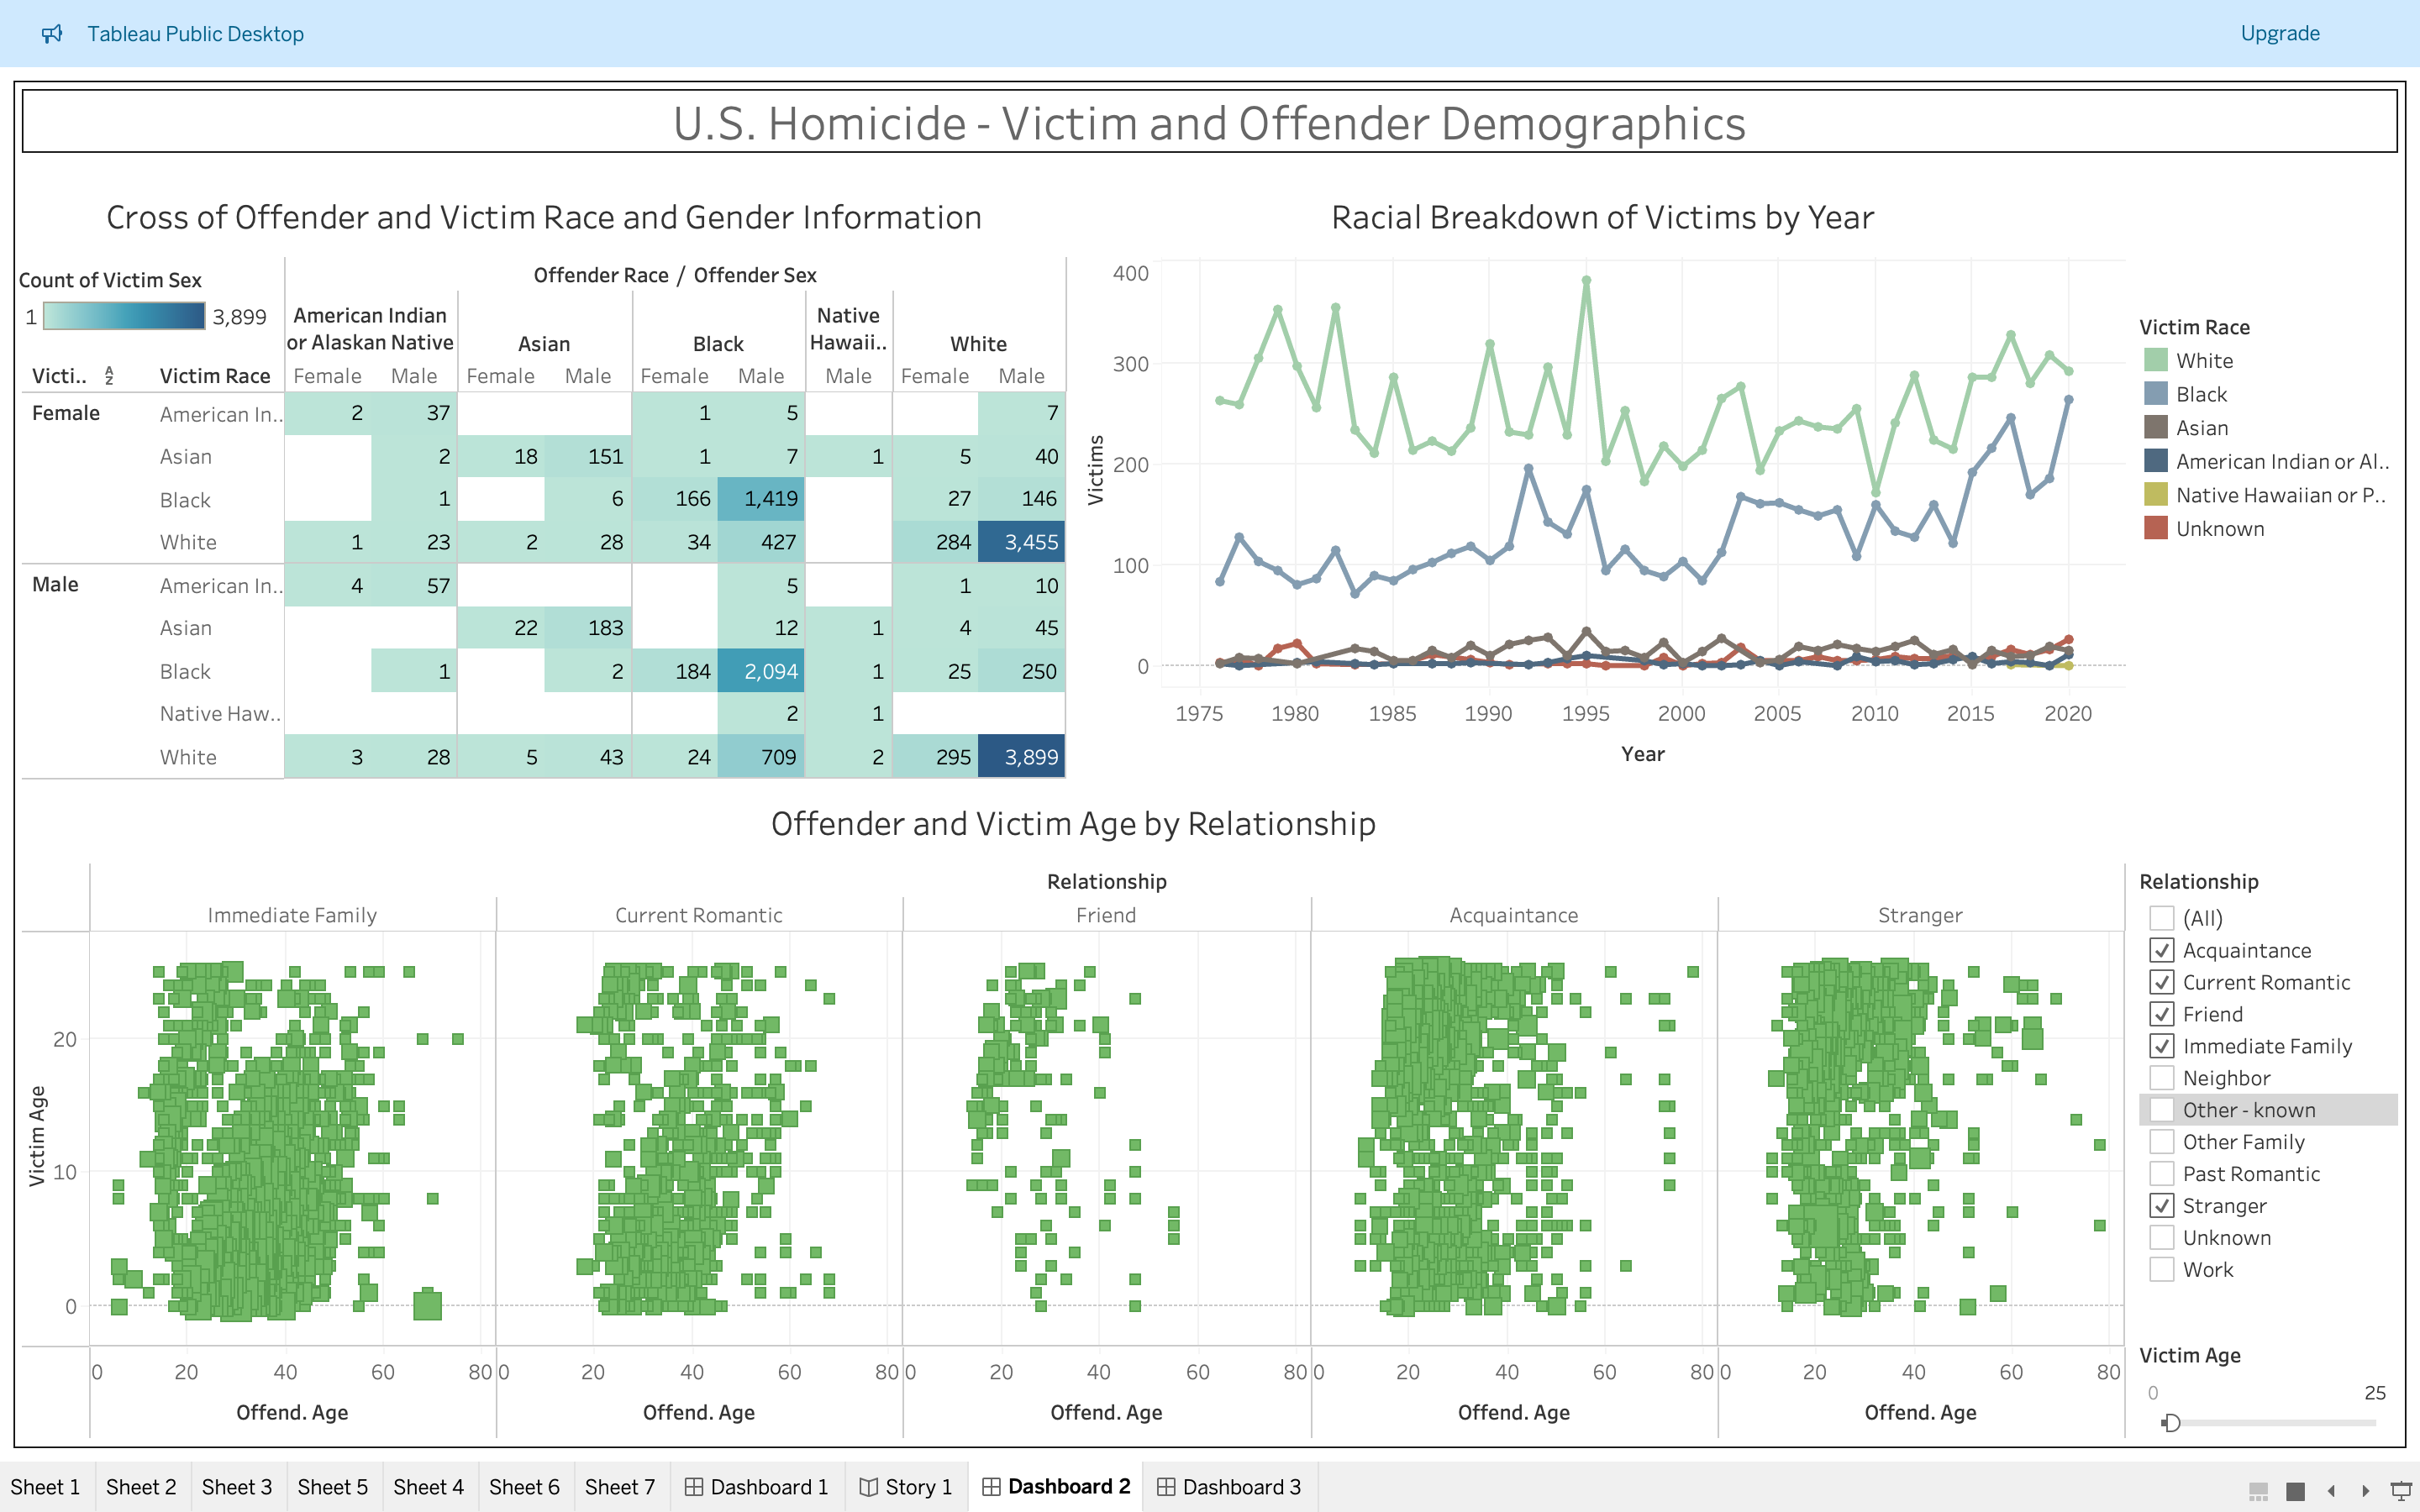

This screenshot's page, from the dashboard's own definition file:
{"tool":"tableau","page":{"name":"Dashboard 2","canvas":[1000,1000],"units":"permille","ordinal":1},"visuals":[{"type":"text","box":[7.3,11.7,985.4,59.9]},{"type":"worksheet","title":"Sheet 3","mark":"Square","rows":["VicSex","VicRace"],"cols":["OffRace","OffSex"],"box":[7.3,82,426.8,433.6]},{"type":"worksheet","title":"Sheet 2","mark":"Automatic","rows":["VicRace"],"cols":["Year"],"box":[434.1,82,426.8,433.6]},{"type":"legend","title":"Sheet 2","param":"[federated.0b1ztih0gpocdj166uy76140bp9j].[none:VicRace:nk]","box":[860.9,123.7,131.8,410.2]},{"type":"legend","title":"Sheet 3","param":"[federated.0b1ztih0gpocdj166uy76140bp9j].[cnt:VicSex:qk]","box":[17.1,175.8,113.9,54.7]},{"type":"worksheet","title":"Sheet 7","mark":"Square","rows":["VicAge"],"cols":["Relationship","OffAge"],"box":[7.3,515.6,853.6,472.7]},{"type":"filter","title":"Sheet 7","param":"[federated.0b1ztih0gpocdj166uy76140bp9j].[none:Relationship:nk]","box":[860.9,533.9,131.8,367.2]},{"type":"filter","title":"Sheet 7","param":"[federated.0b1ztih0gpocdj166uy76140bp9j].[none:VicAge:qk]","box":[860.9,901,131.8,87.2]}]}

Visuals, with their boxes on the dashboard's canvas, which has no fixed pixel size, in thousandths of its width and height (x1, y1, x2, y2). These are canvas units, not pixel positions in the 2420x1512 screenshot, which may show the page scaled, cropped or inside an application window:
text: (left=7, top=12, right=993, bottom=72)
"Sheet 3" worksheet (Square marks): (left=7, top=82, right=434, bottom=516)
"Sheet 2" worksheet: (left=434, top=82, right=861, bottom=516)
"Sheet 2" legend: (left=861, top=124, right=993, bottom=534)
"Sheet 3" legend: (left=17, top=176, right=131, bottom=230)
"Sheet 7" worksheet (Square marks): (left=7, top=516, right=861, bottom=988)
"Sheet 7" filter: (left=861, top=534, right=993, bottom=901)
"Sheet 7" filter: (left=861, top=901, right=993, bottom=988)
